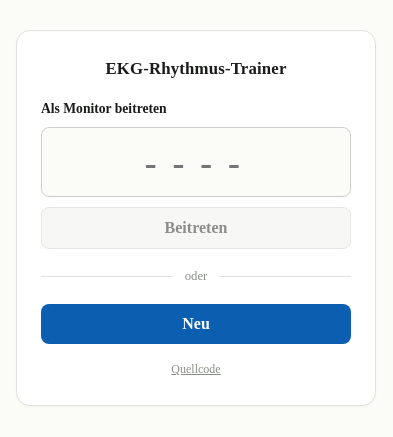
Test case: StartCard › an unknown code shows an inline error and does not navigate
This screenshot has width=393, height=437.
In the field named "code": (196, 162) top-left (41, 127), bottom-right (351, 197), type "0000"
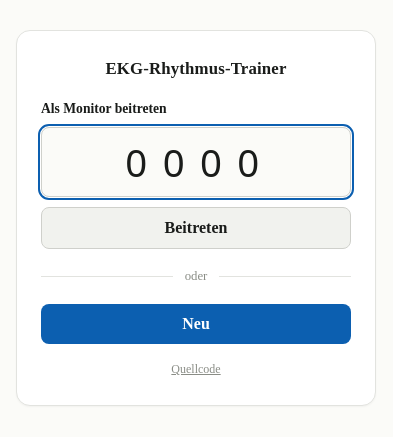
Click the button "Beitreten": (196, 228) top-left (41, 207), bottom-right (351, 249)
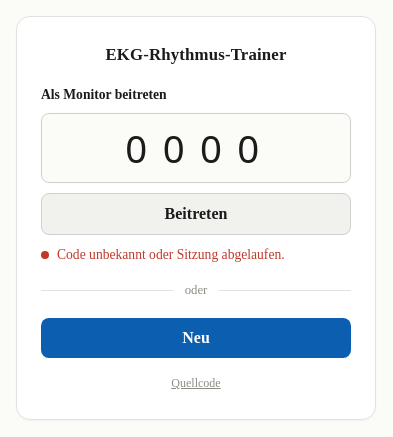
Now the text "Code unbekannt oder Sitzung abgelaufen." is shown, box top-left (41, 247), bottom-right (285, 262)
